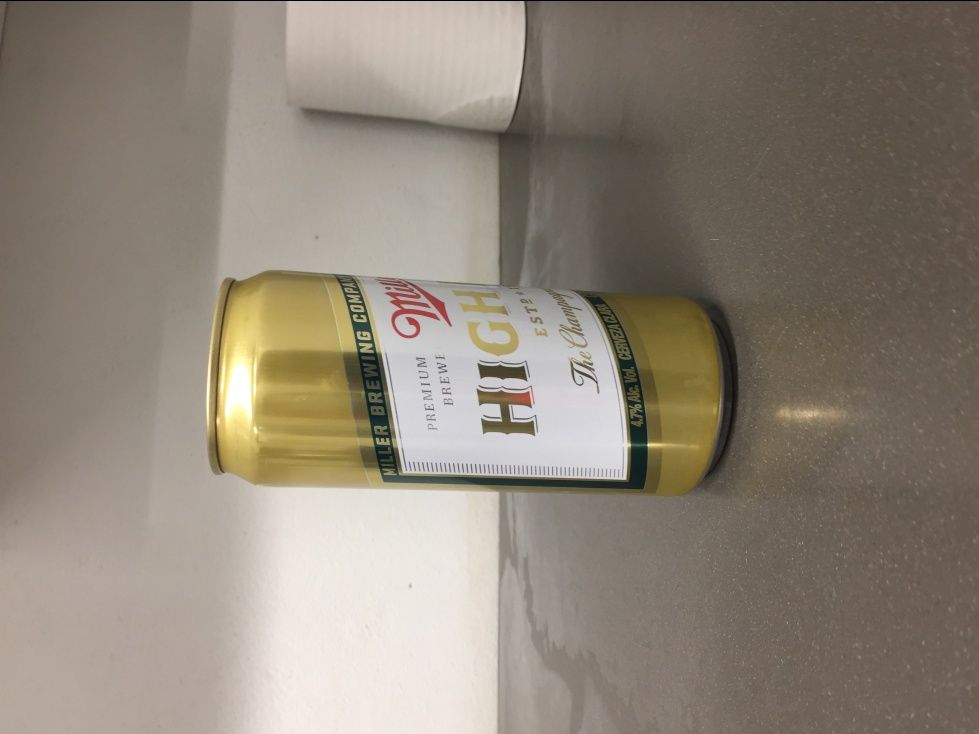miller: (203, 264, 738, 500)
